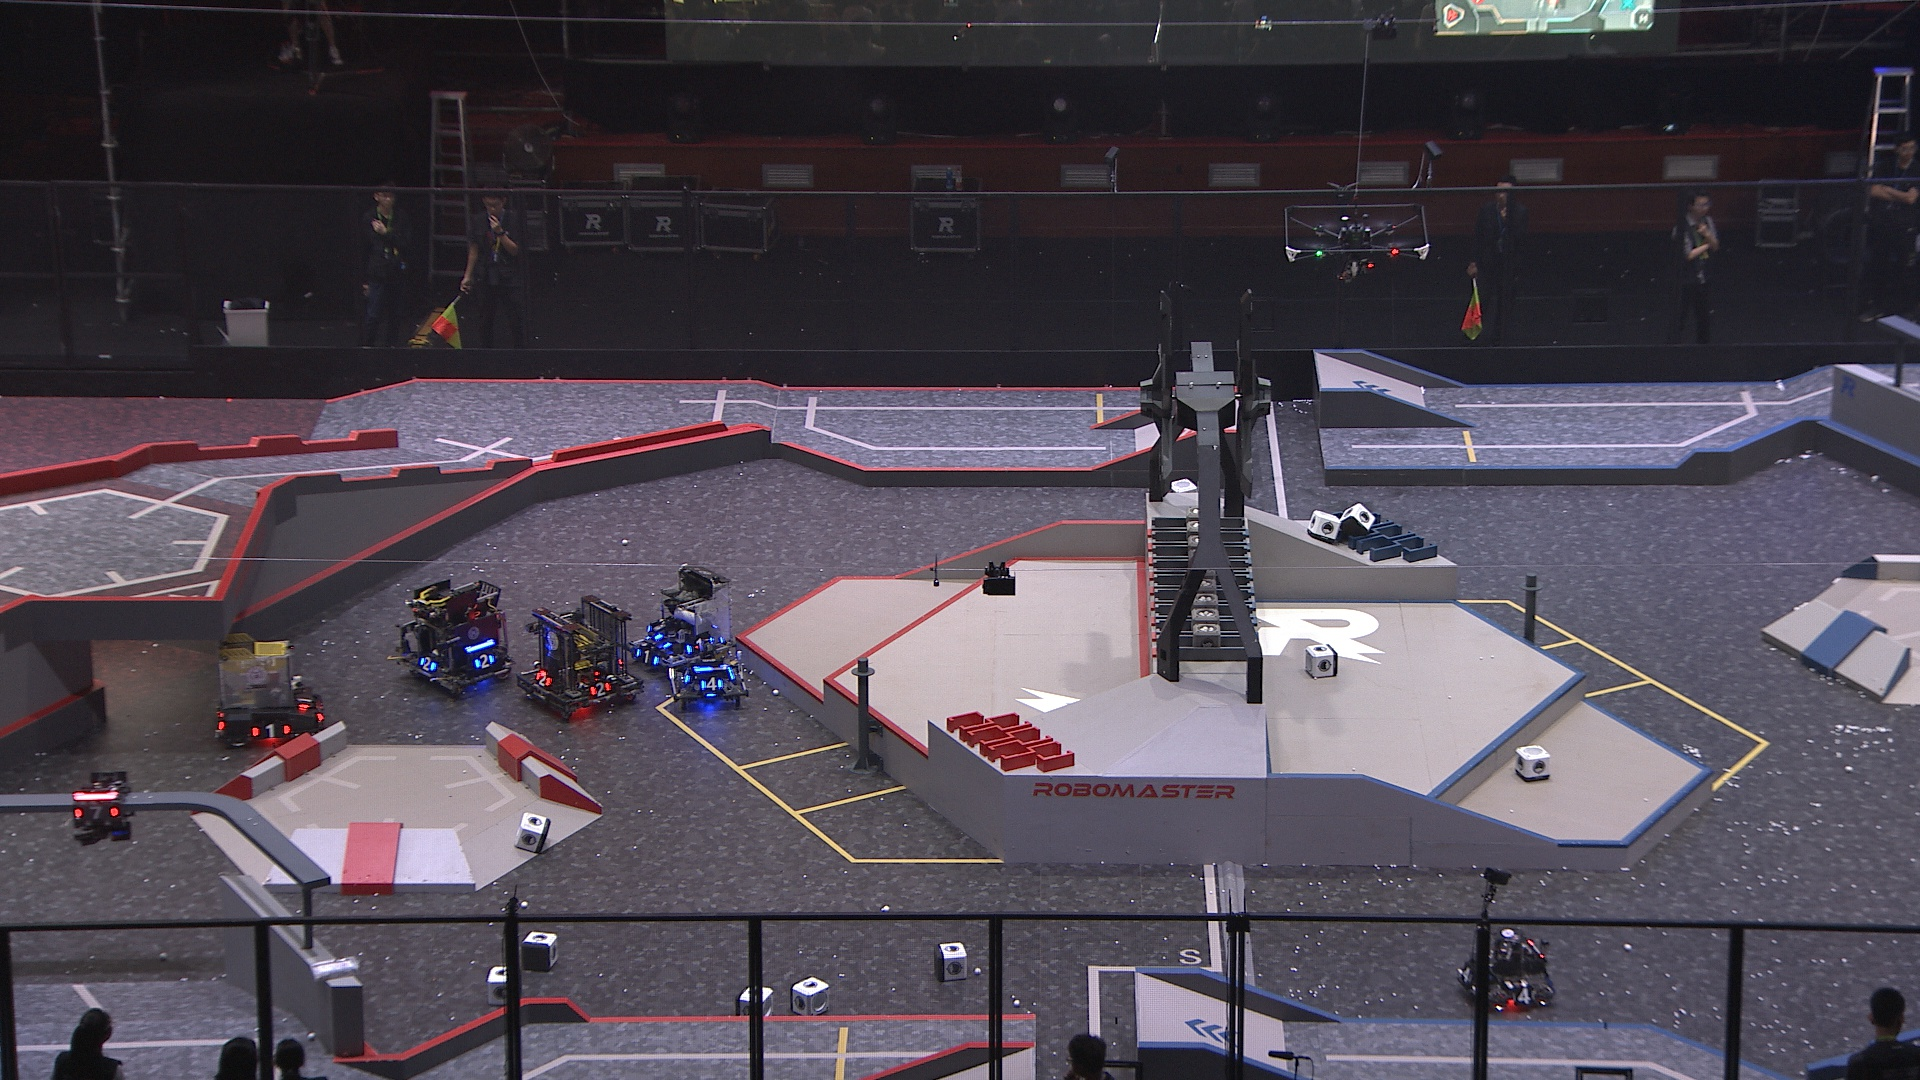armor: (73, 804, 121, 822), (245, 721, 291, 738), (633, 645, 662, 671), (684, 632, 716, 655), (290, 687, 316, 713), (1509, 986, 1539, 1006), (699, 673, 727, 694), (472, 651, 496, 673), (1457, 960, 1476, 986), (585, 679, 612, 698), (417, 654, 436, 675), (534, 666, 553, 688), (680, 659, 694, 684)
car: (514, 599, 646, 721), (392, 574, 514, 700), (206, 632, 330, 749), (624, 562, 738, 676), (1453, 926, 1560, 1011), (666, 632, 749, 711)
watcher: (69, 767, 135, 847)
